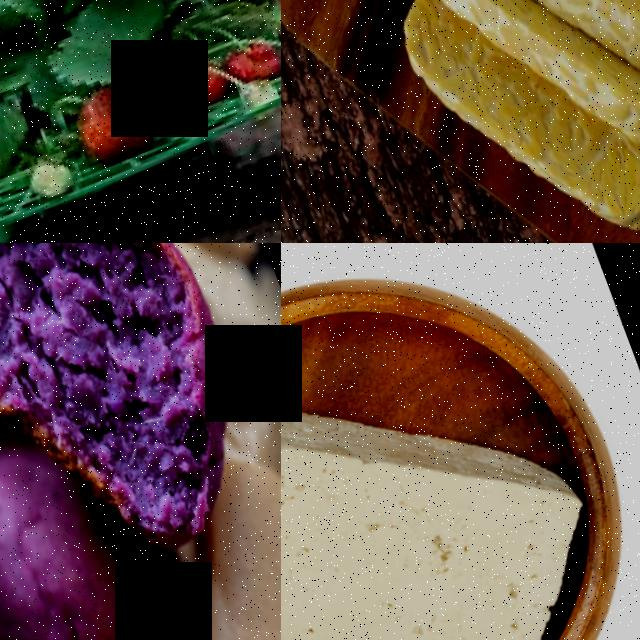sweet potato: (0, 243, 281, 596)
tempeh: (330, 0, 640, 243)
tofu: (361, 439, 598, 640), (281, 360, 422, 640)
